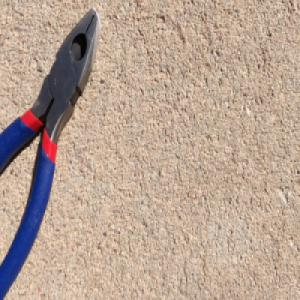Pliers: (0, 4, 101, 300)
